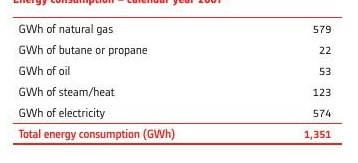table: (0, 0, 358, 163)
